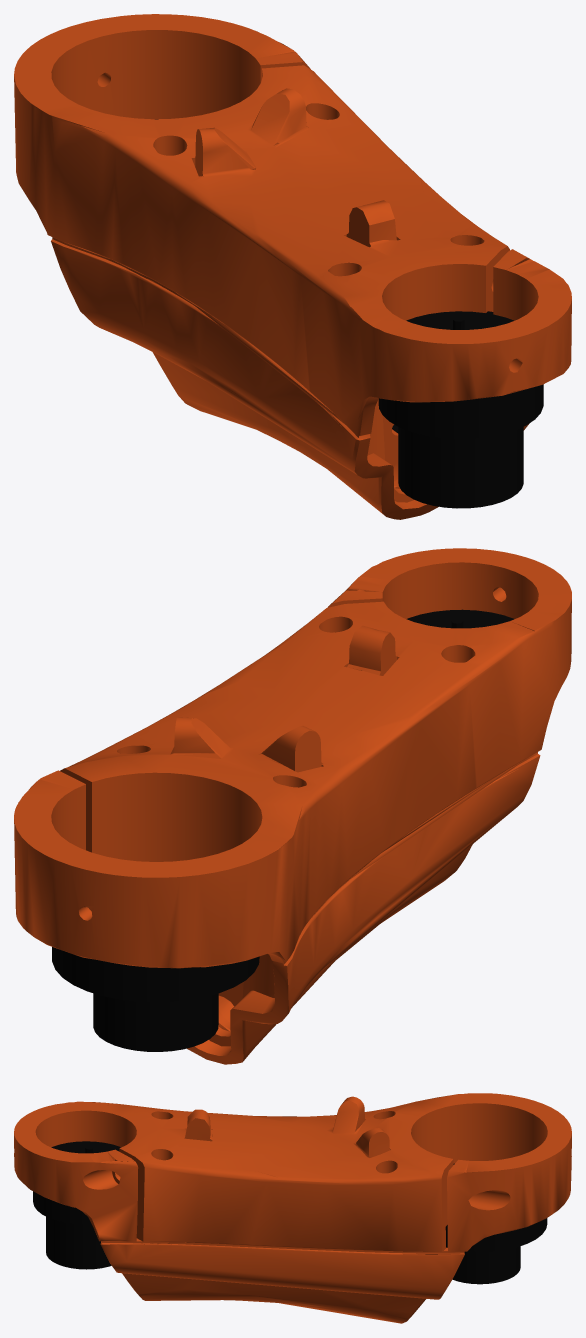
Rendered from YoubotArm_Link2.dae.
3 renders of one model, top to bottom at view 1: azimuth 30°, elevation 25°; view 2: azimuth 150°, elevation 25°; view 3: azimuth 270°, elevation 25°, orthographic. The views are drawn at different scales.
Visible parts, largest first — view 1: arm_joint_2; view 2: arm_joint_2; view 3: arm_joint_2.
Part boxes in pixels (left/top/right/bottom): arm_joint_2: left=14, top=14, right=571, bottom=519; arm_joint_2: left=14, top=548, right=571, bottom=1064; arm_joint_2: left=14, top=1093, right=571, bottom=1323.
Bounding box in the file's own units: 0.0745 × 0.22 × 0.0899.
